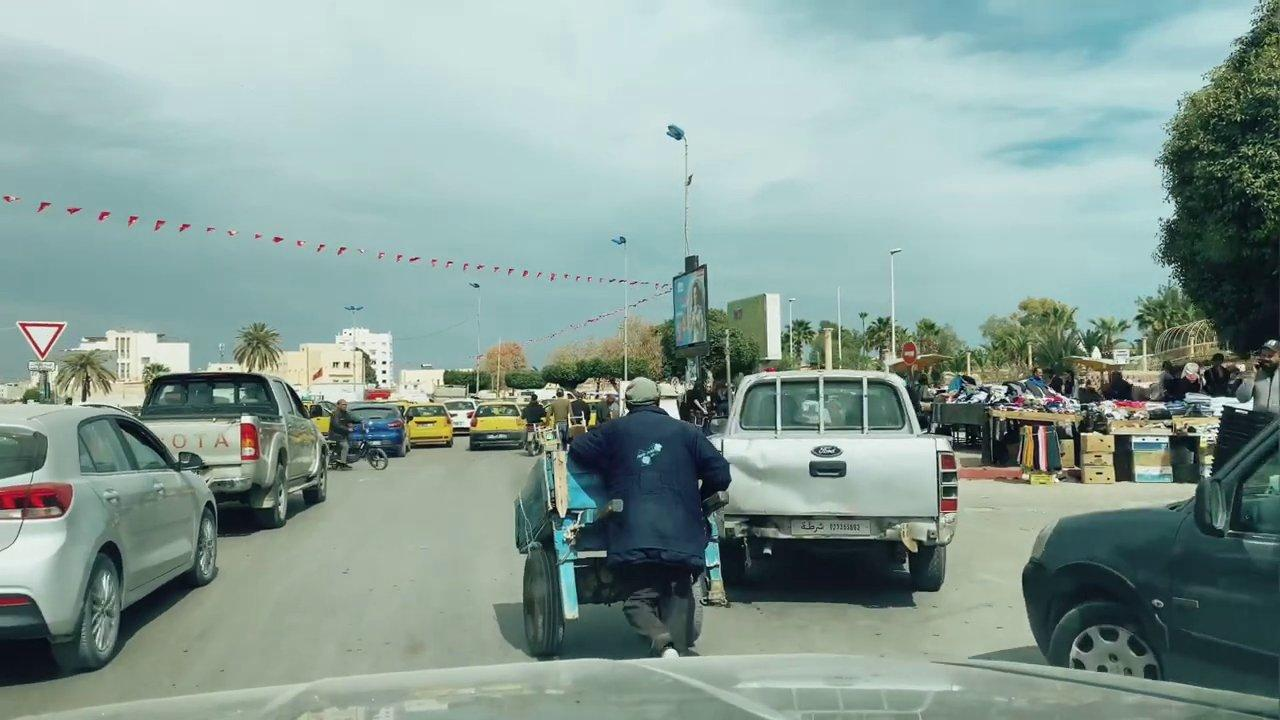give way: (17, 318, 66, 360)
no entry: (901, 341, 918, 367)
